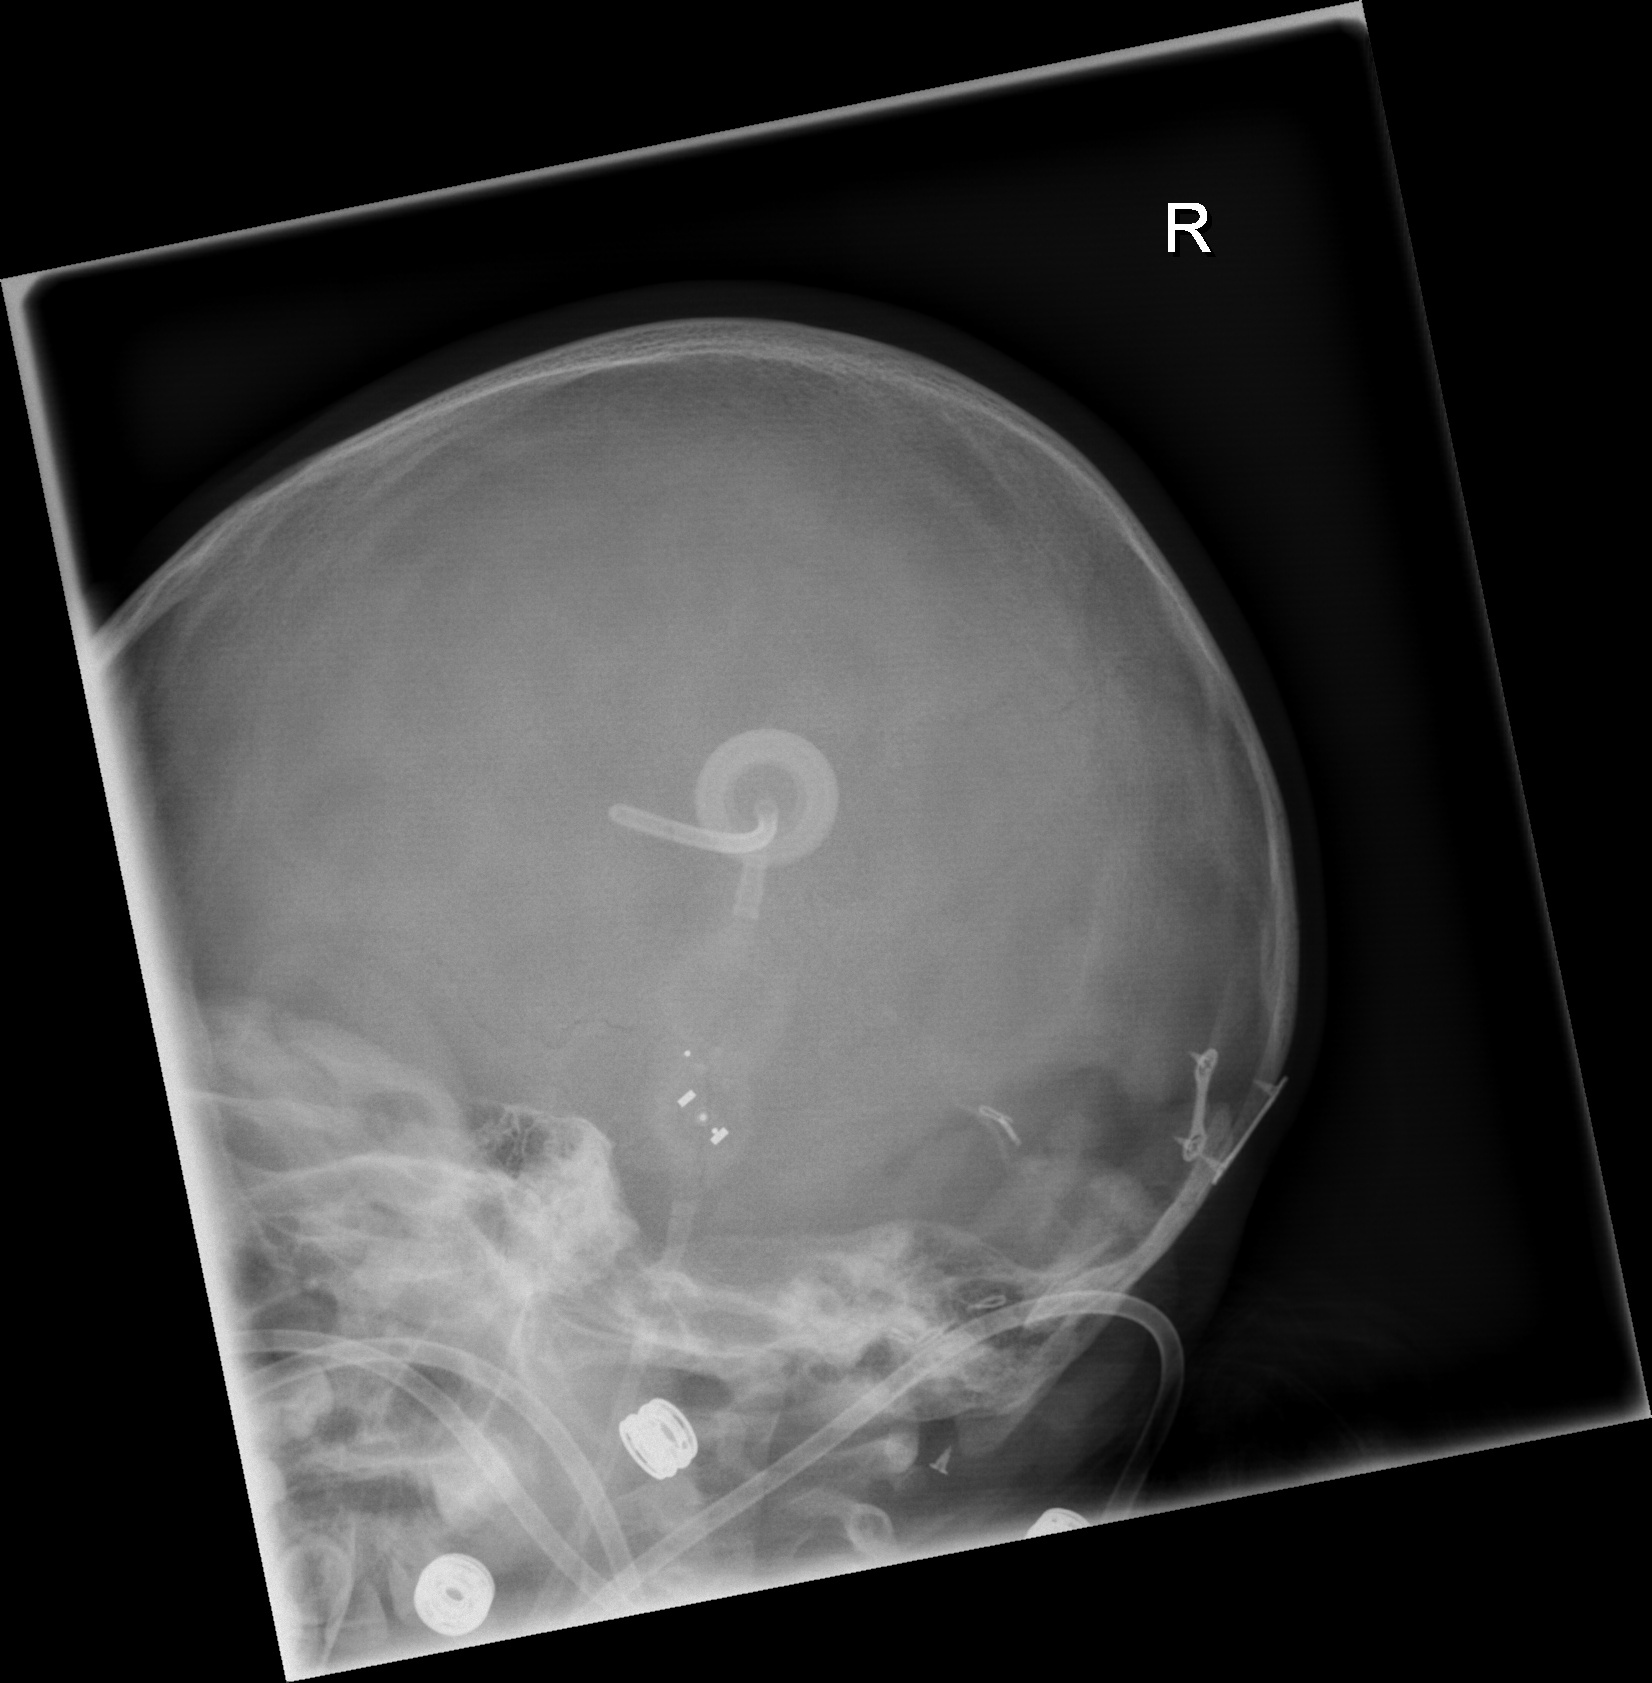Codman Certas: (647, 1034, 752, 1192)
